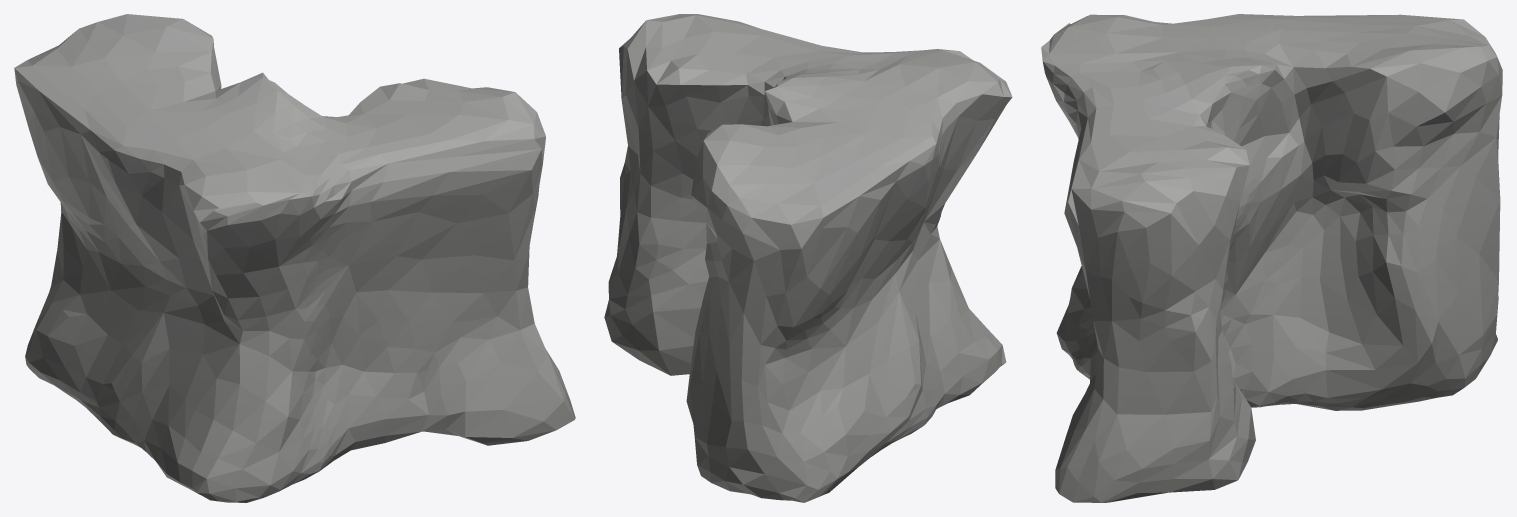
Rendered from Cavern_Wall_Corner_Lrg-01.fbx.
3 renders of one model, left to right at view 1: azimuth 30°, elevation 25°; view 2: azimuth 150°, elevation 25°; view 3: azimuth 270°, elevation 25°, orthographic. The views are drawn at different scales.
Parts seen in each view (by area): view 1: Cavern_Wall_Corner_Lrg-01; view 2: Cavern_Wall_Corner_Lrg-01; view 3: Cavern_Wall_Corner_Lrg-01.
Boxes of the visible parts, x1=… form: Cavern_Wall_Corner_Lrg-01: x1=14, y1=14, x2=575, y2=502; Cavern_Wall_Corner_Lrg-01: x1=604, y1=14, x2=1012, y2=502; Cavern_Wall_Corner_Lrg-01: x1=1041, y1=14, x2=1502, y2=502.
Size of the model in its own units: 1457 by 1260 by 1492.
1 material, 1 textured.
